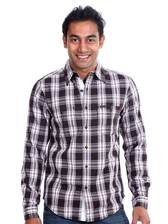clothoes: (19, 60, 150, 212)
